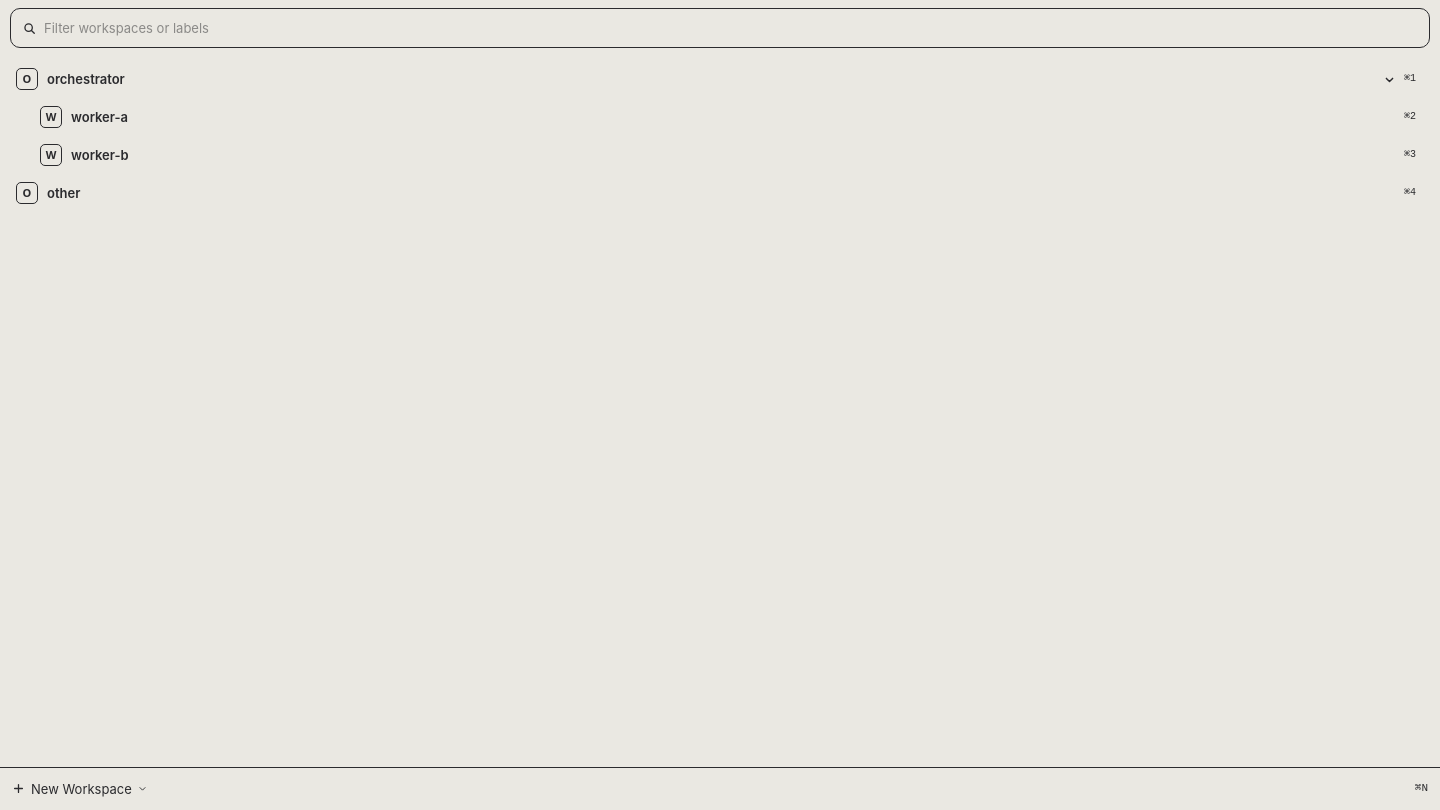
Test case: a parent row › toggles its children through the chevron, optimistically
Click the button with test id "workspace-children-chevron".
click(1390, 79)  # box [1379,69,1400,90]
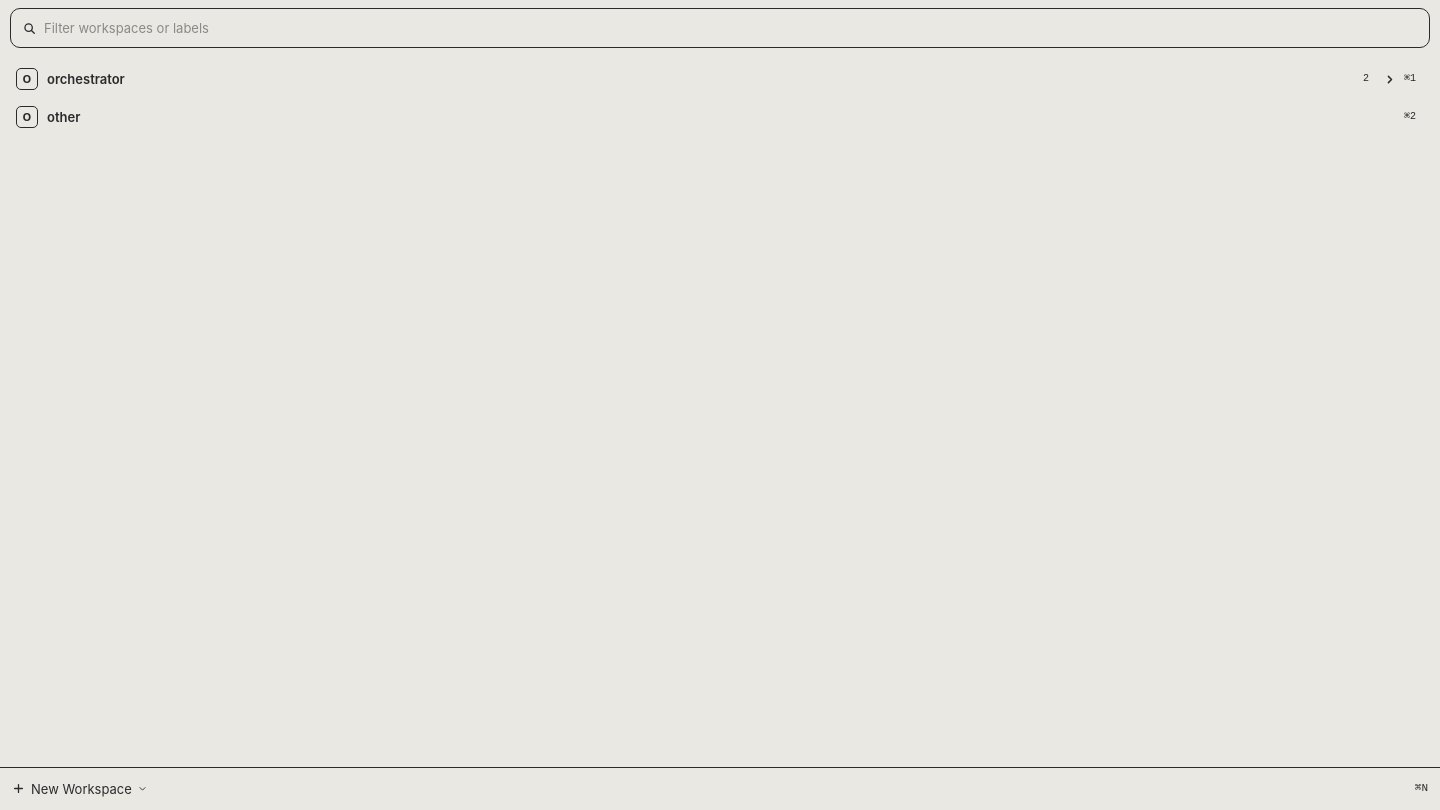
Expected: the number of options with test id "workspace-row" is 2, [8,62,1424,96]; [8,100,1424,134]
